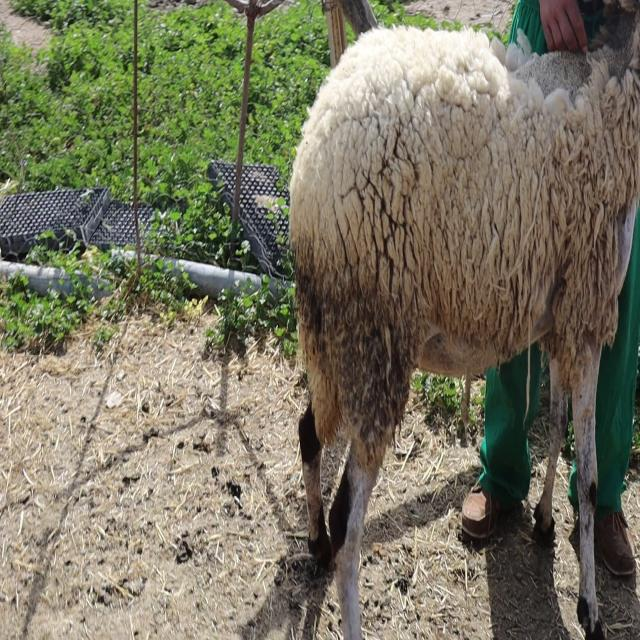Score_3: (289, 0, 640, 639)
